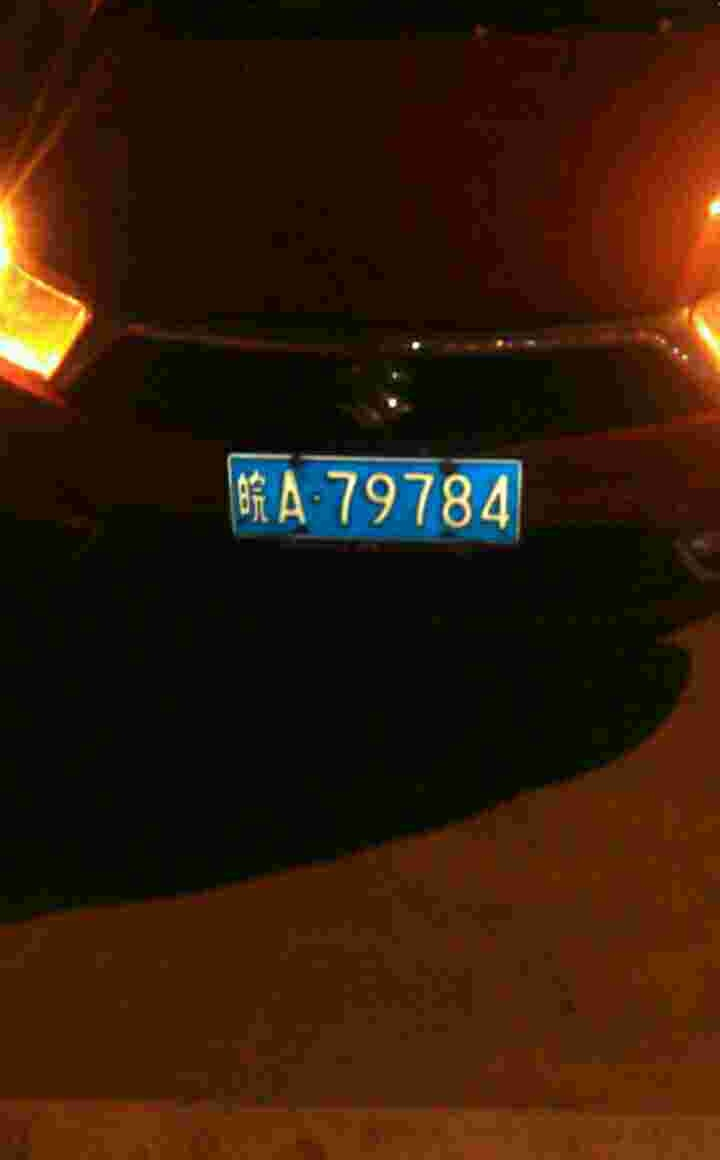license_plate: (238, 463, 518, 541)
